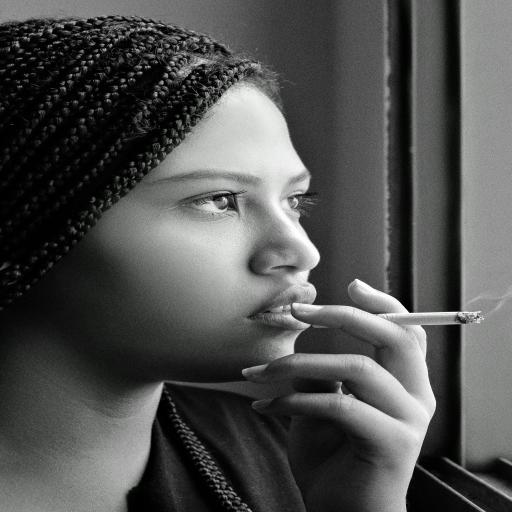terdeteksi merokok: (202, 129, 488, 375)
